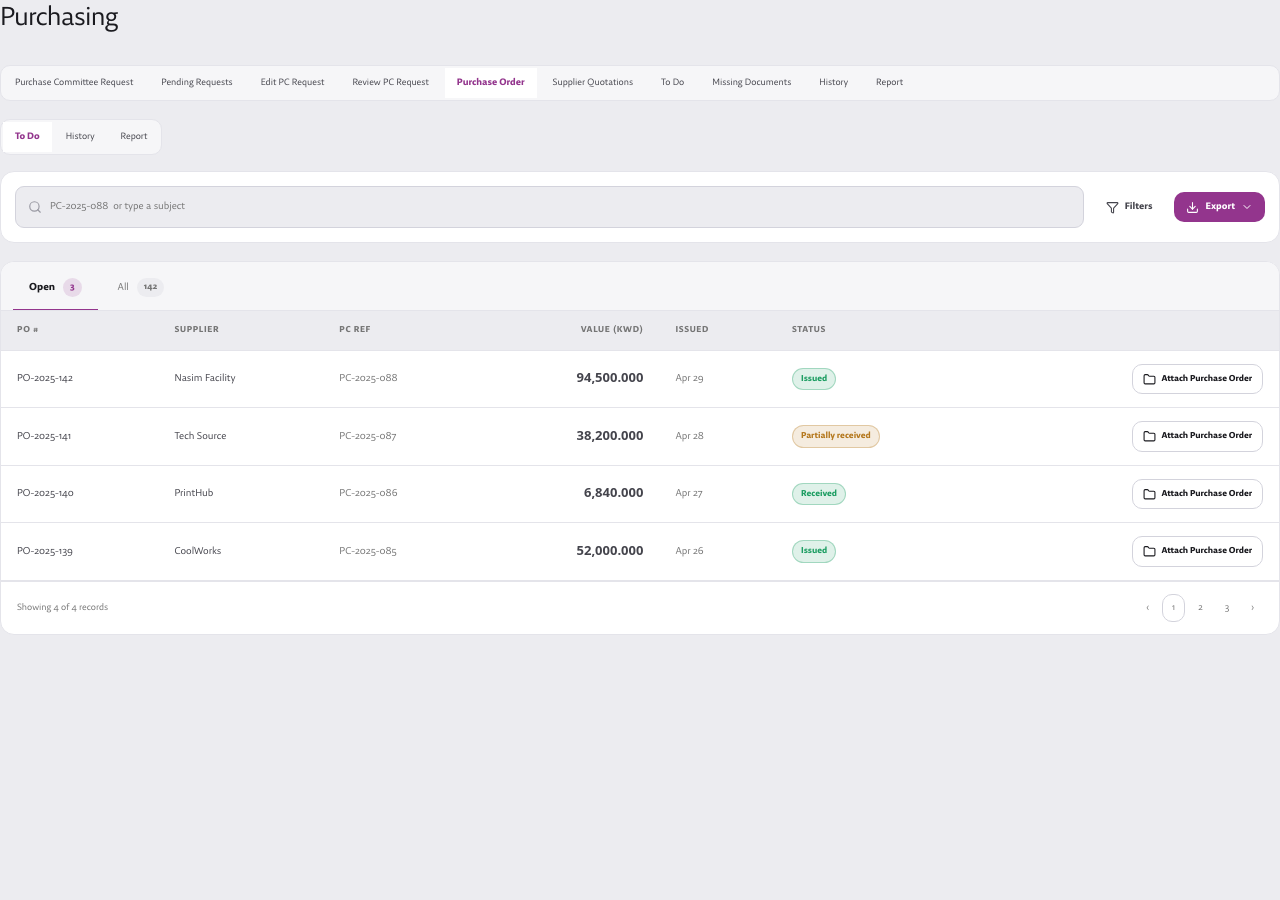
M6.4 Purchase Order › opens the Attach dialog seeded from the row and the matching request, with no captions/fields prefilled
Click the button "Attach Purchase Order" in the row of "PO-2025-142" at (1197, 379), box [1132, 364, 1263, 394]
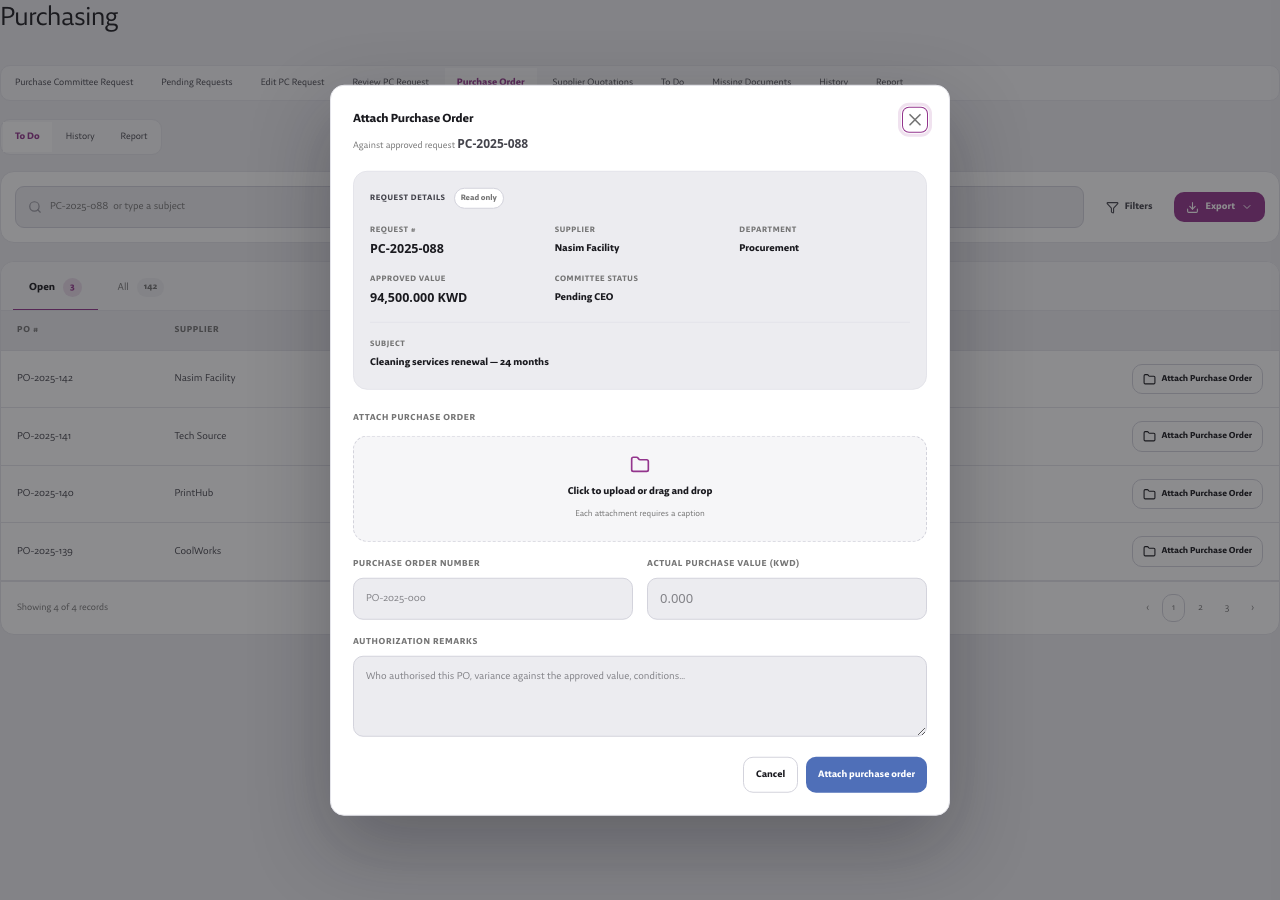
Expected: the text "Procurement" is shown, [739, 241, 799, 254]
Expected: the text "Pending CEO" is shown, [555, 291, 614, 304]
Expected: the field with placeholder "PO-2025-000" is empty, [353, 578, 633, 619]
